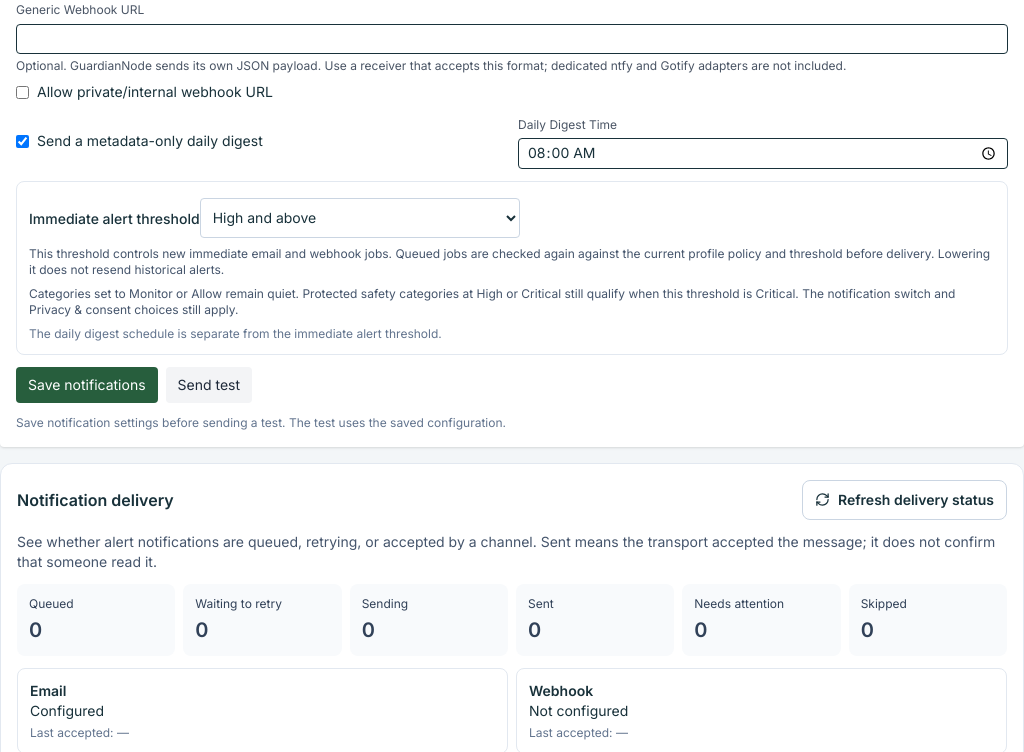
Scenario: settings resilience › reports partial notification failure per channel without a false success banner
This screenshot has width=1024, height=752.
(page scrolled)
What coordinates should you click on to do the following:
click the button "Send test"
I would click on:
 (209, 385)
Its box is [166,367,252,403].
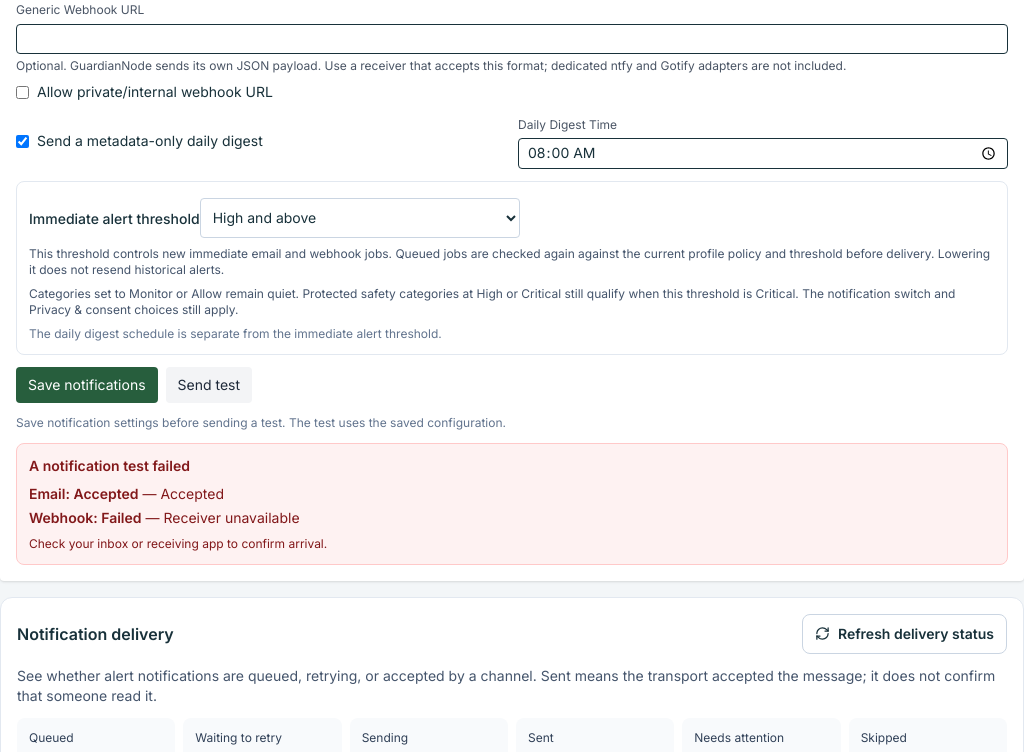
Expected: the text "A notification test failed" is shown, [29,457,190,474]
Expected: the text "email: accepted" is shown, [29,485,139,502]
Expected: the text "webhook: failed" is shown, [29,509,142,526]
